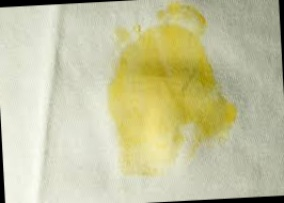mustard: (108, 0, 242, 168)
